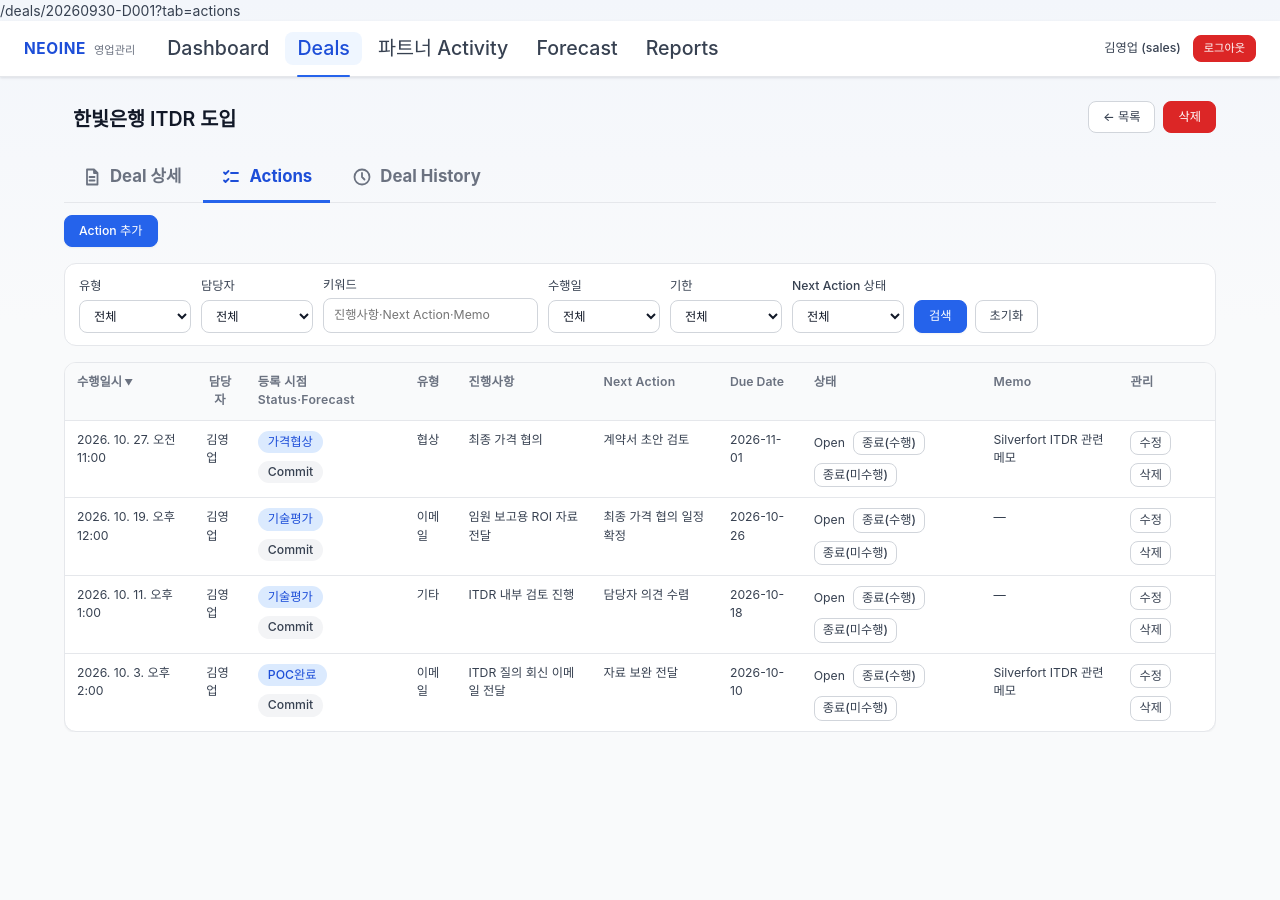
등록·수정 실패 (AC-10) › keeps the edit dialog and the changed value when saving fails
Check: the heading "한빛은행 ITDR 도입" is shown, box [64, 101, 245, 138]
Click the 2nd button "수정": {"x": 1151, "y": 520} [1130, 508, 1171, 533]
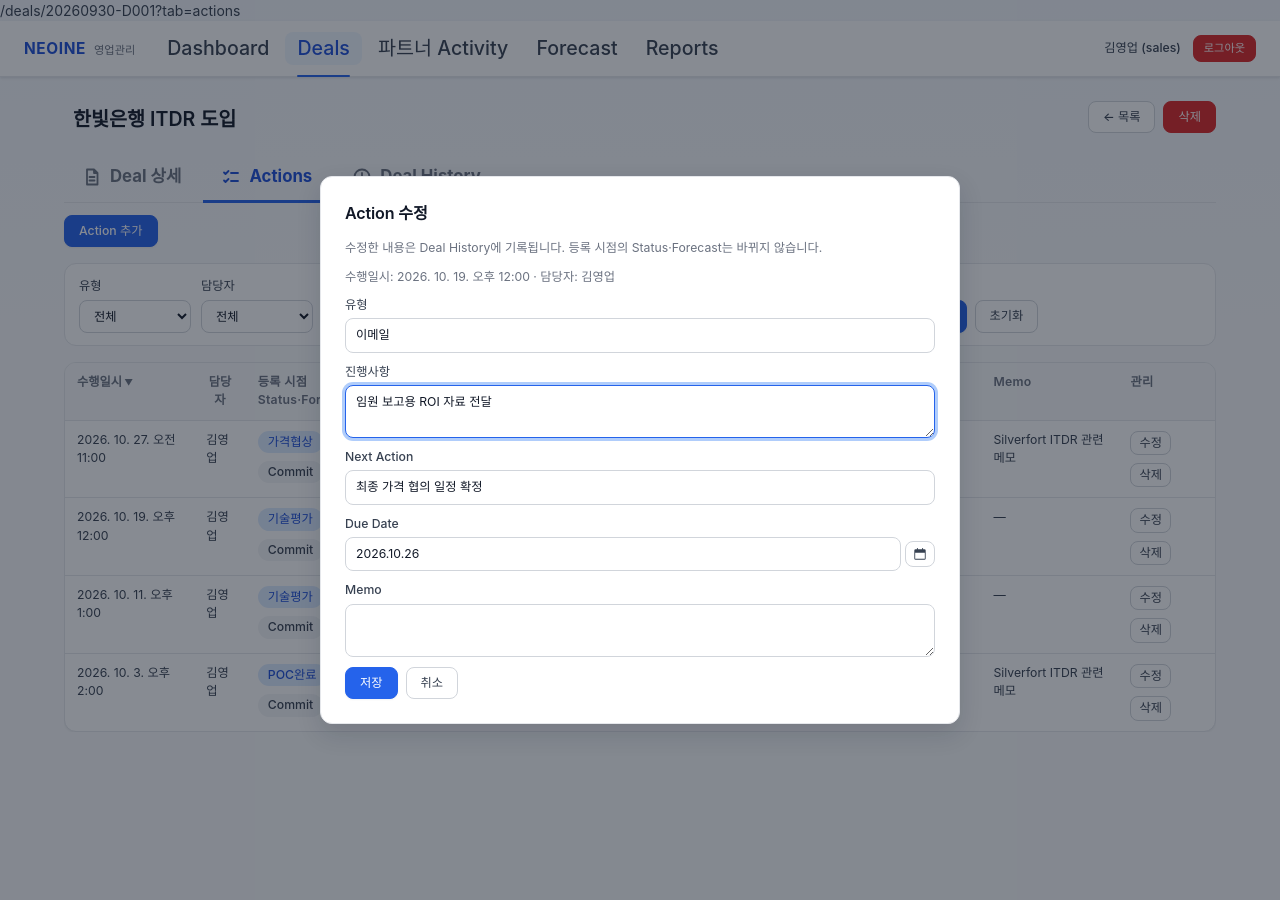
Replace the text in the text box labelled "진행사항" with "저장 실패한 수정값": {"x": 640, "y": 412} [345, 385, 935, 438]
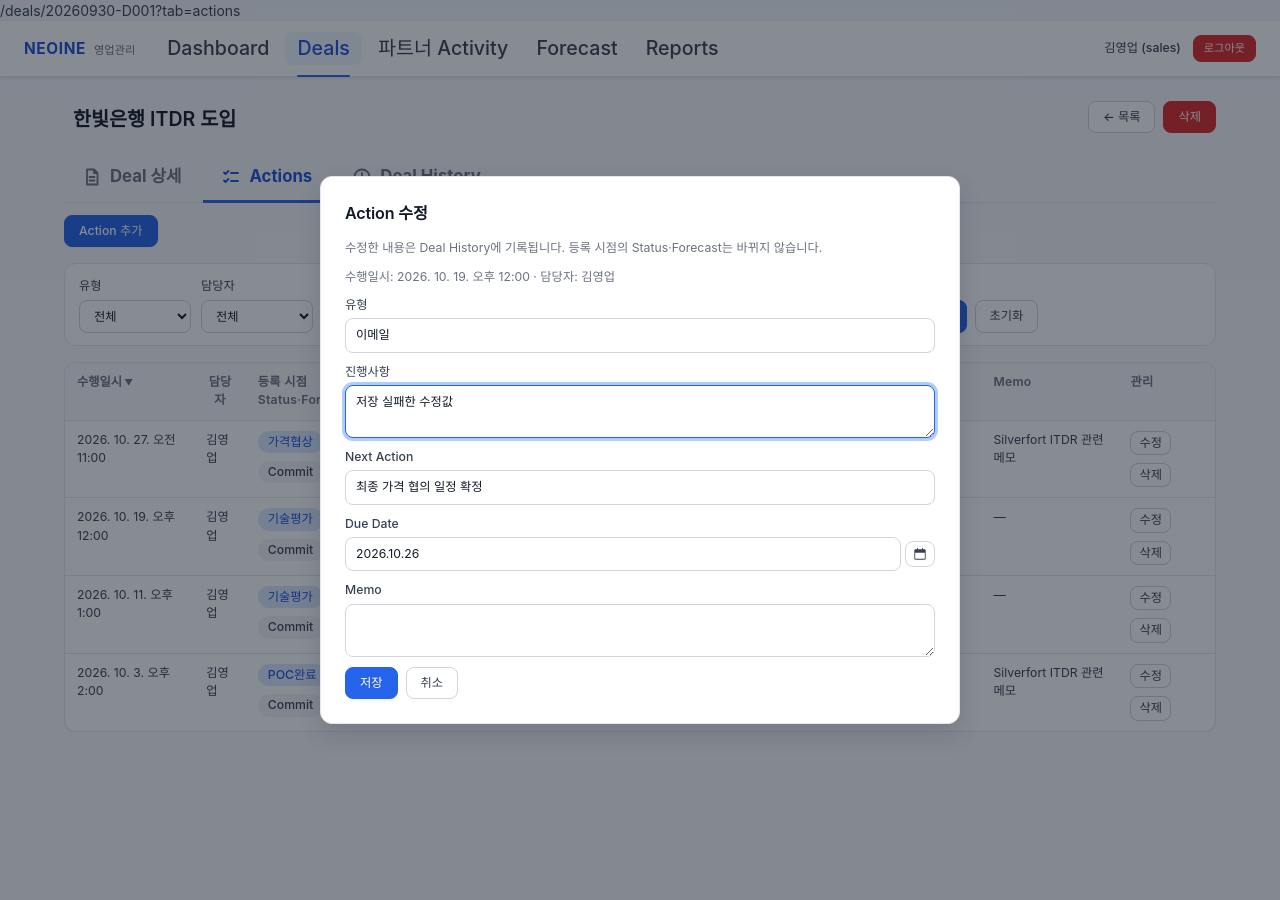
Click the button "저장": {"x": 371, "y": 683} [345, 666, 398, 699]
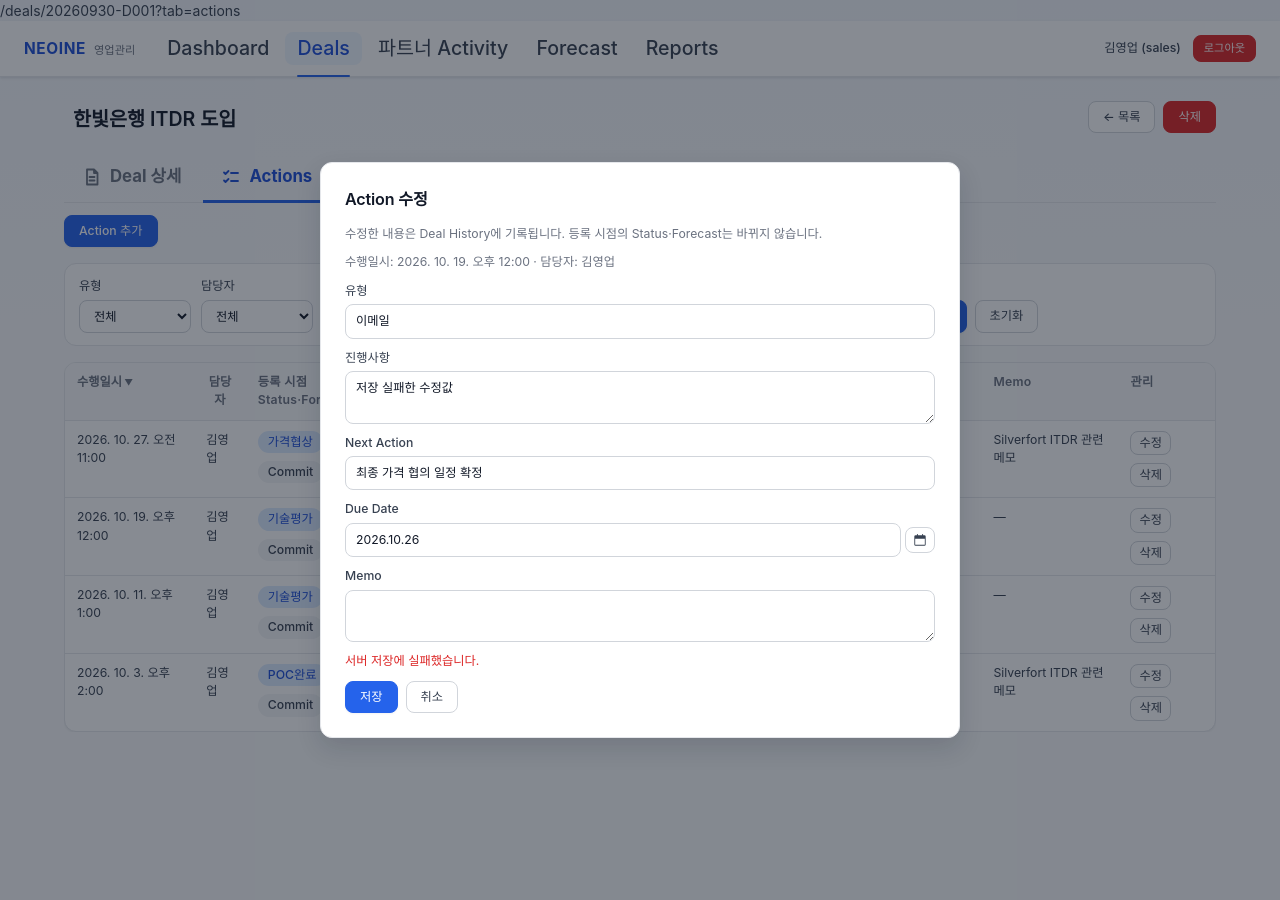
Check: the dialog "Action 수정" is shown, box [320, 162, 960, 738]
Check: the message reads "서버 저장에 실패했습니다.", box [345, 653, 479, 668]
